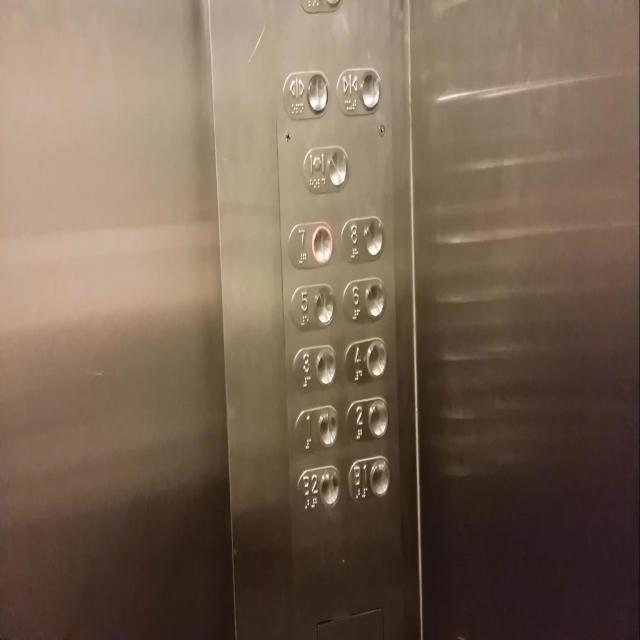1: (294, 405, 339, 453)
2: (346, 396, 387, 443)
3: (292, 343, 336, 387)
4: (344, 337, 386, 383)
5: (290, 283, 334, 329)
6: (341, 275, 384, 323)
7: (287, 220, 334, 268)
8: (341, 215, 383, 264)
B1: (347, 455, 391, 502)
B2: (298, 464, 341, 511)
close: (336, 68, 380, 114)
open: (280, 66, 328, 117)
unknown: (303, 145, 350, 193)
